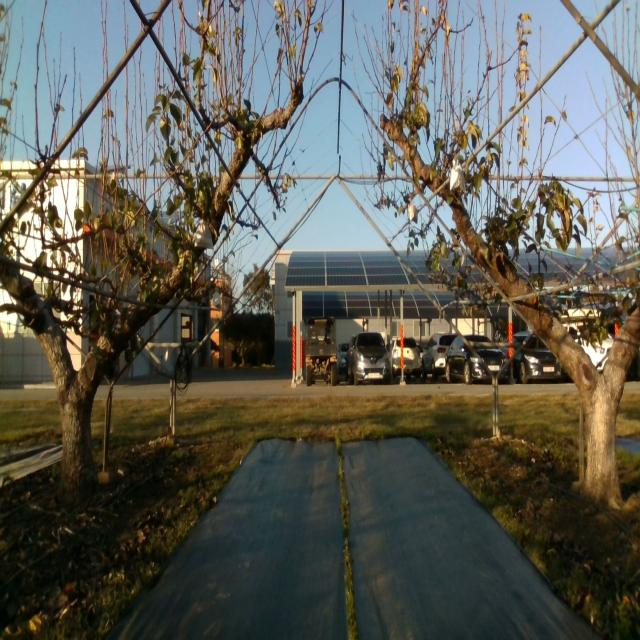pearbags: (194, 222, 214, 250), (450, 160, 466, 192)
